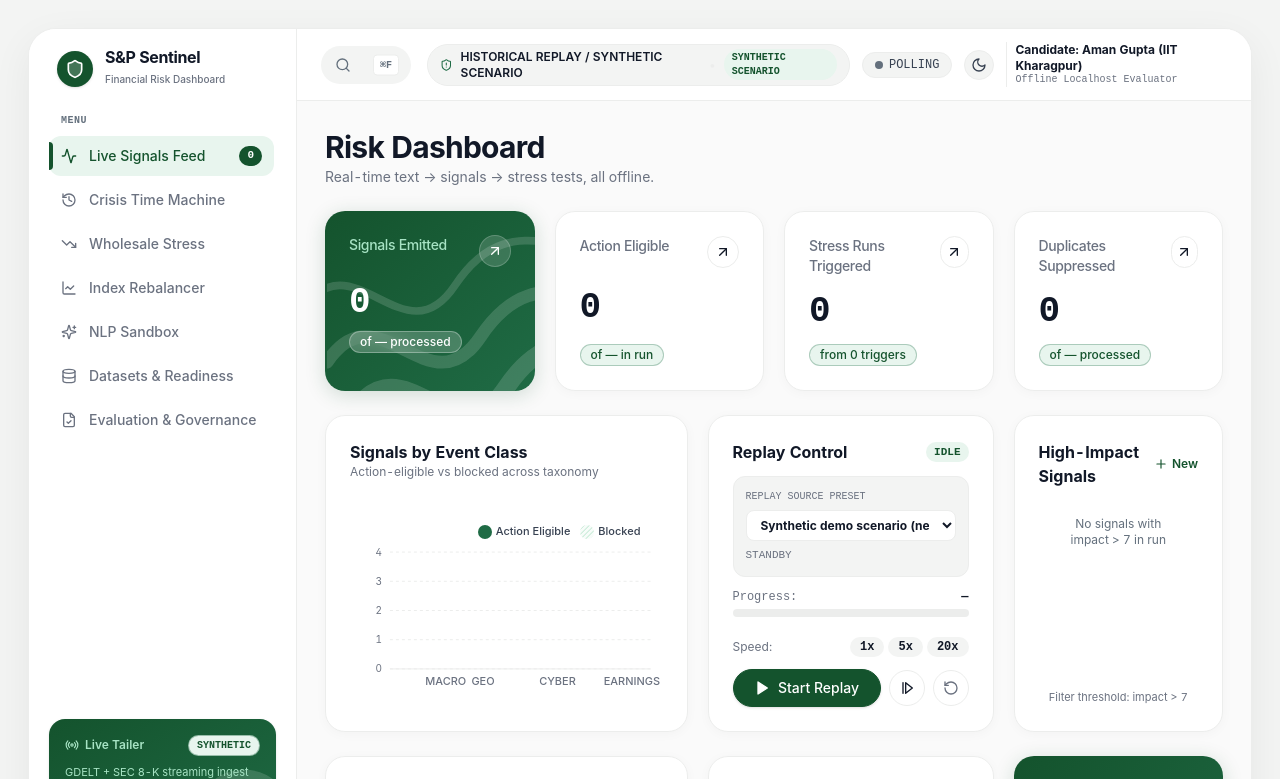
Test: S&P Sentinel Risk Terminal › renders clear unavailable state without hardcoded fallback records when API fails
The width and height of the screenshot is (1280, 779).
# Switch to Datasets tab to verify failure state
Click the button "Datasets & Readiness": (162, 376) x1=49 y1=356 x2=274 y2=396
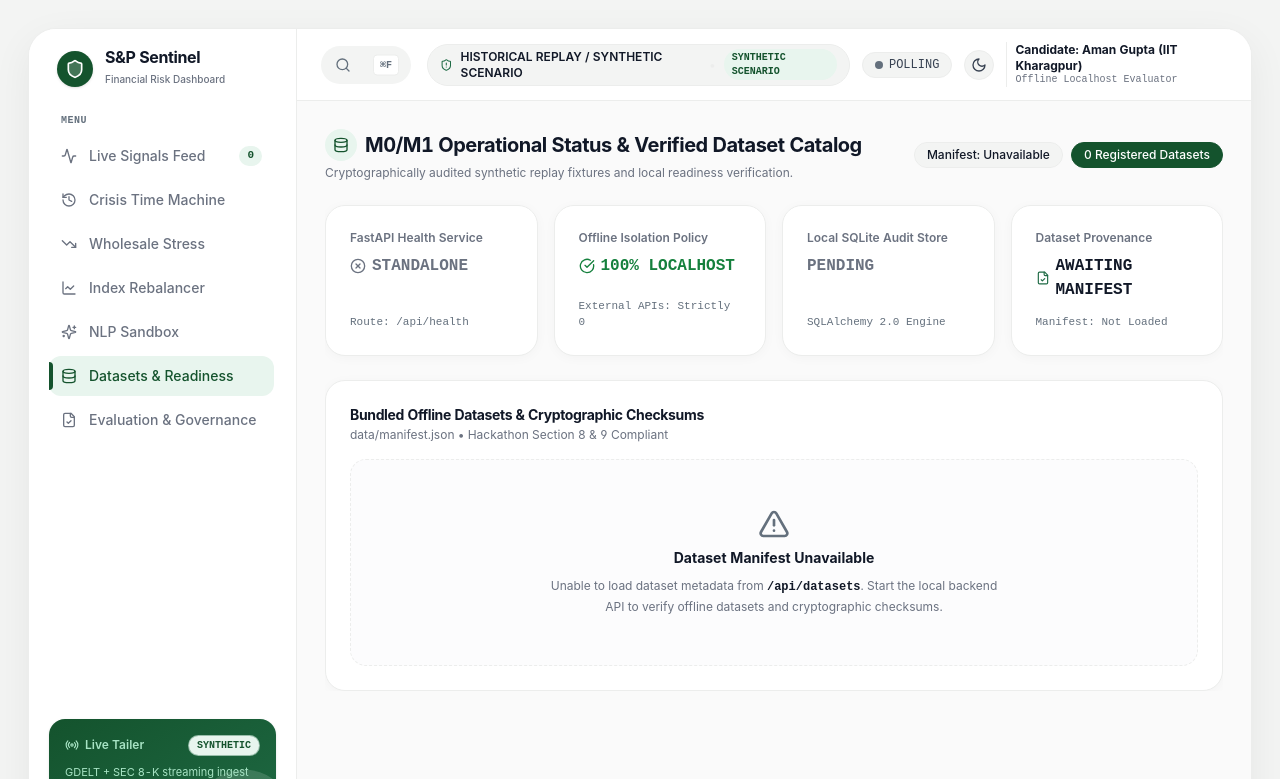
Result: the text "Dataset Manifest Unavailable" is shown at x1=674 y1=548 x2=874 y2=566
Result: the text "0 Registered Datasets" is shown at x1=1071 y1=142 x2=1223 y2=168
Result: the text "Manifest: Unavailable" is shown at x1=914 y1=142 x2=1063 y2=168
